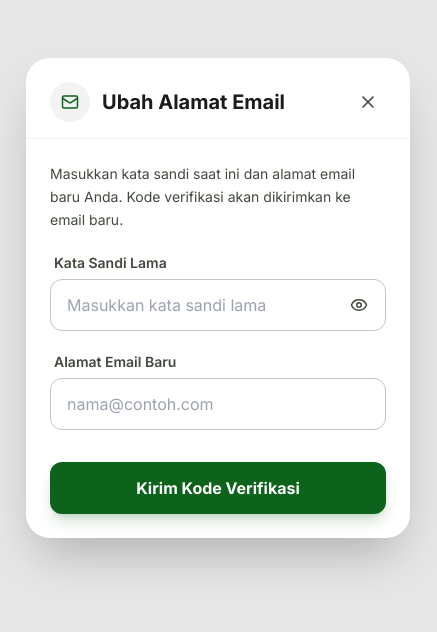
TASK-0216 EmailChangeModal UI Test Suite › validates that new email cannot match current email
The width and height of the screenshot is (437, 632).
In the password field with placeholder "Masukkan kata sandi lama": [218, 305] box [50,279,386,331], type "Secret123!"
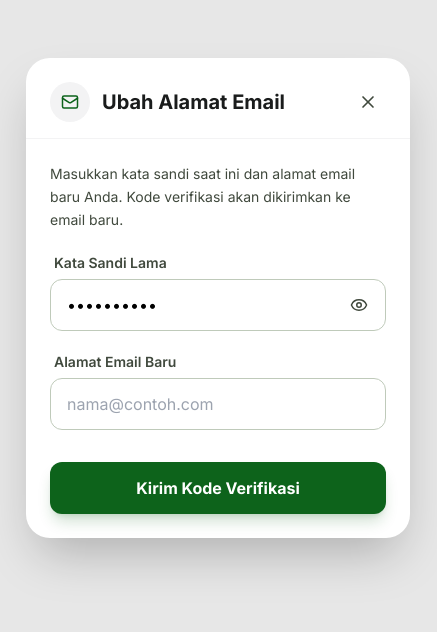
In the field with placeholder "nama@contoh.com": [218, 404] box [50,378,386,430], type "current.user@example.com"
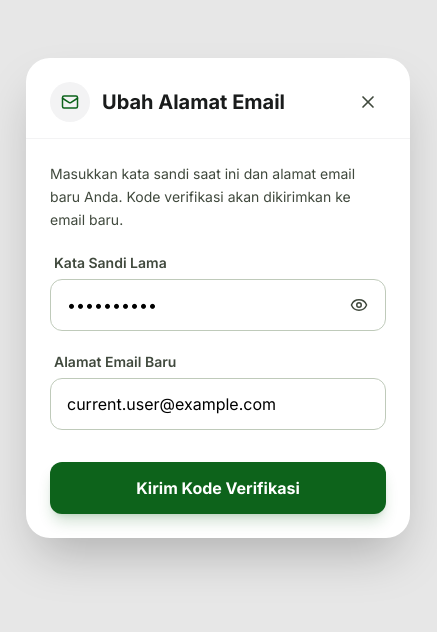
Click the button "Kirim Kode Verifikasi": [218, 488] box [50,462,386,514]
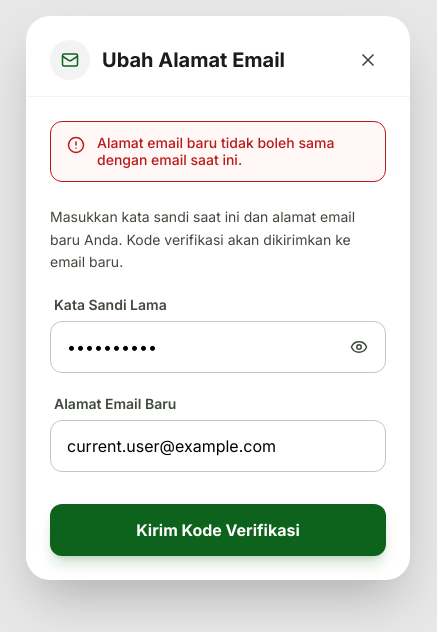
expect the text "Alamat email baru tidak boleh sama dengan email saat ini." is shown: met, box [97,134,369,169]
